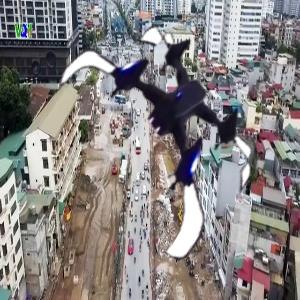drone: (49, 9, 274, 234)
